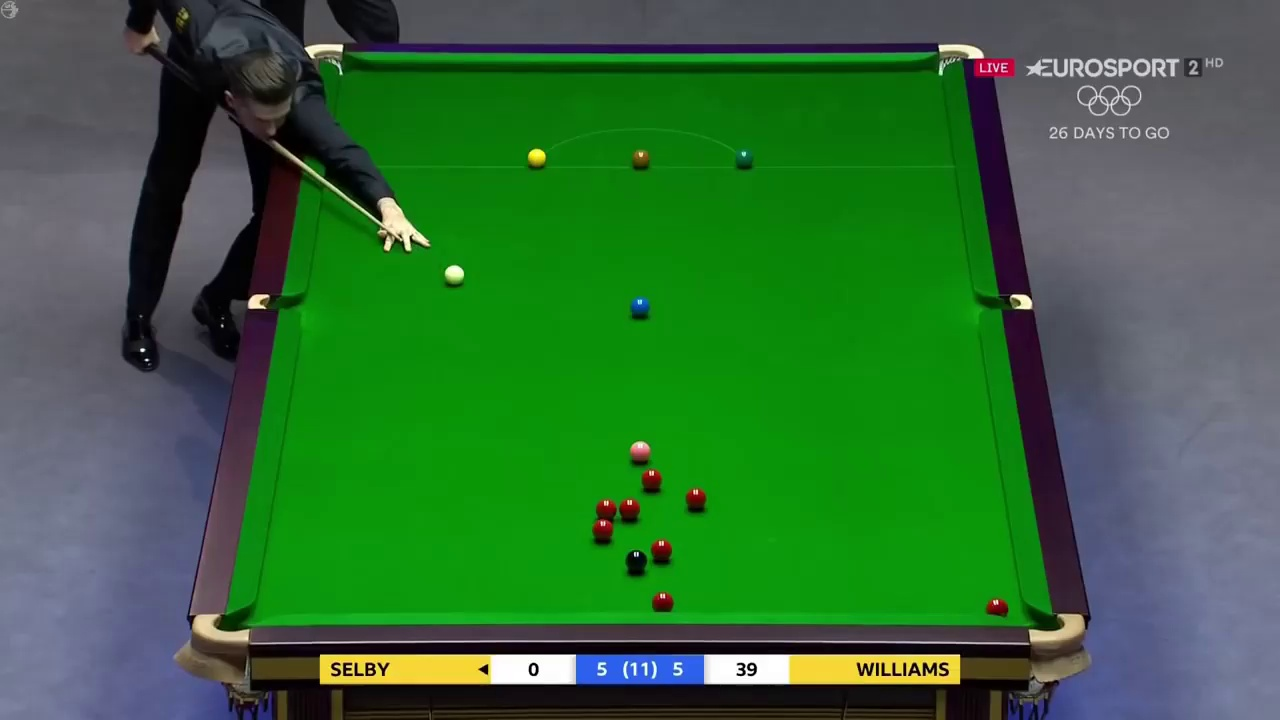ball: (589, 518, 617, 543), (640, 468, 663, 489), (687, 490, 707, 510), (444, 266, 463, 287), (630, 149, 649, 170), (527, 148, 547, 167), (620, 498, 639, 517), (631, 443, 649, 463), (651, 542, 671, 560), (632, 297, 648, 318), (734, 150, 752, 168)
